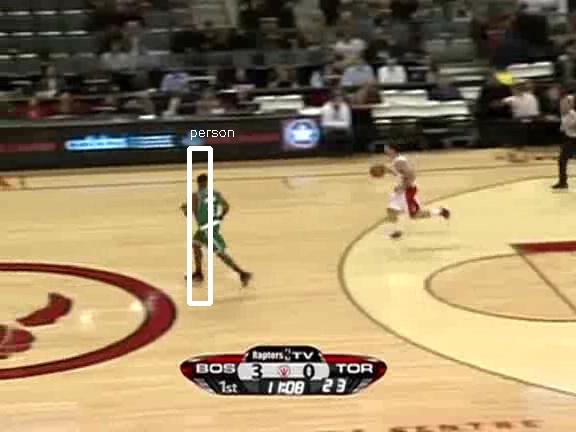person: (194, 182, 228, 263), (193, 182, 227, 263), (195, 182, 229, 263), (194, 181, 228, 262), (194, 183, 228, 264)
target_negative: (300, 233, 466, 388), (303, 328, 551, 355), (554, 327, 565, 409), (96, 418, 234, 421), (544, 381, 576, 390), (436, 324, 488, 326)
